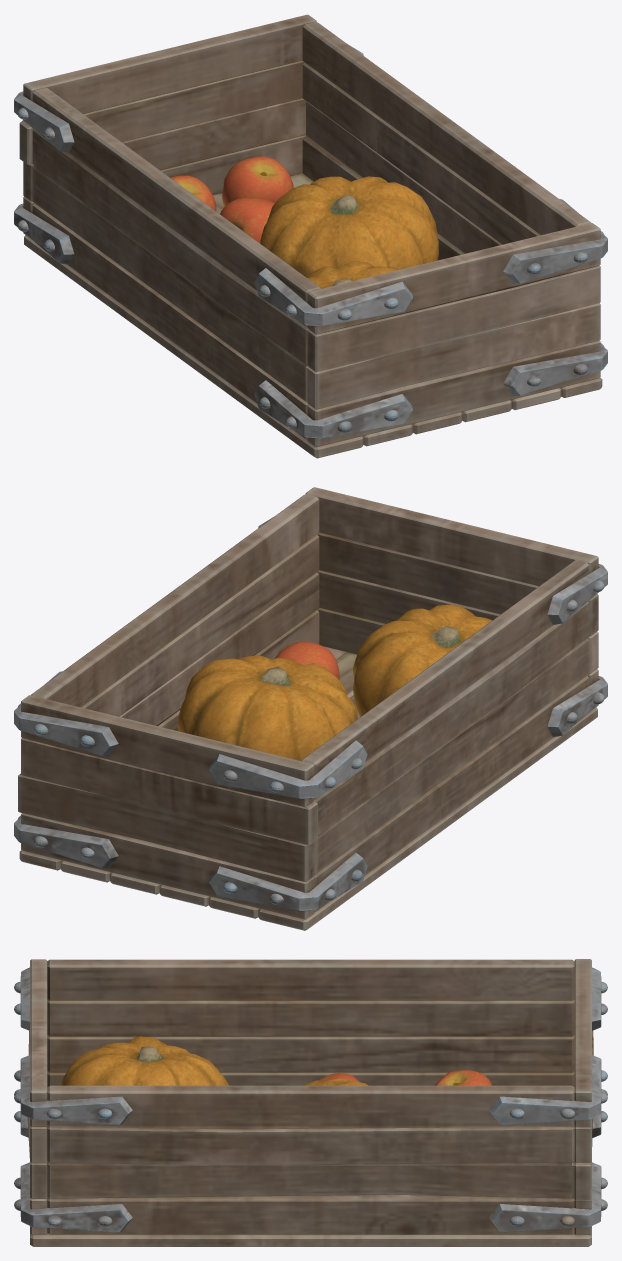
The model's file is SM_market_box_02.fbx.
3 views of the same model, one above another, from view 1: azimuth 30°, elevation 25°; view 2: azimuth 150°, elevation 25°; view 3: azimuth 270°, elevation 25° (orthographic). The views are drawn at different scales.
Parts seen in each view (by area): view 1: SM_market_box_02_LOD0; view 2: SM_market_box_02_LOD0; view 3: SM_market_box_02_LOD0.
Part boxes in pixels (x1=…): SM_market_box_02_LOD0: x1=14, y1=14, x2=607, y2=458; SM_market_box_02_LOD0: x1=14, y1=487, x2=607, y2=930; SM_market_box_02_LOD0: x1=14, y1=959, x2=607, y2=1246.
Bounding box in the file's own units: 60.14 × 102 × 29.44.
Materials: 2 (2 with a texture image).
